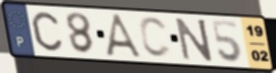5: (210, 17, 245, 65)
8: (65, 11, 97, 56)
A: (103, 12, 146, 60)
C: (138, 16, 174, 61), (29, 10, 64, 53)
N: (173, 17, 215, 62)
